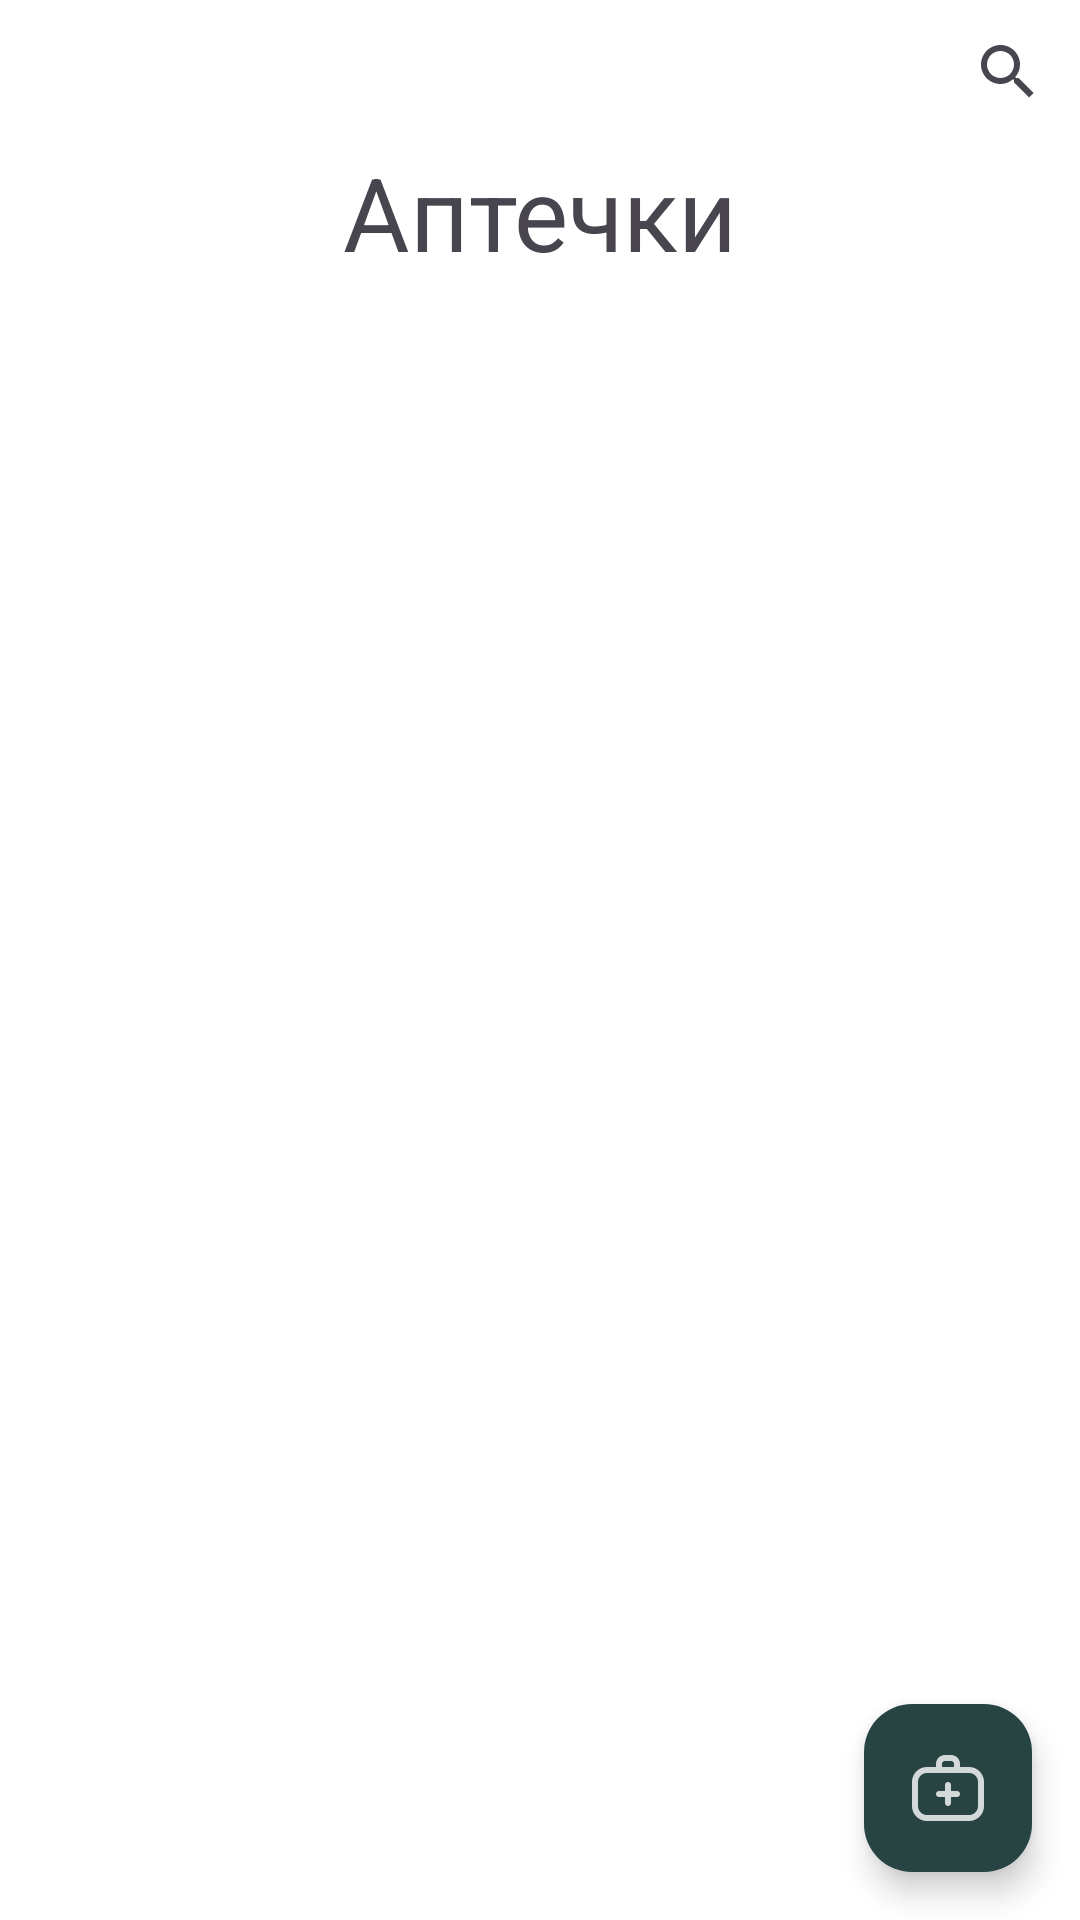

Screen size 1080×1920. Icon name, then its box in pixels as detection(x1, y1, x2, y2):
aid: detection(864, 1704, 1032, 1872)
